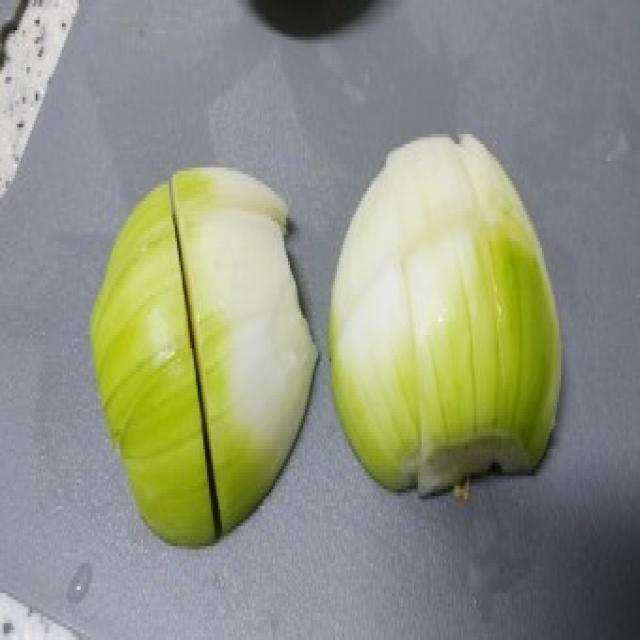Onion: (87, 167, 320, 546), (332, 134, 565, 497)
